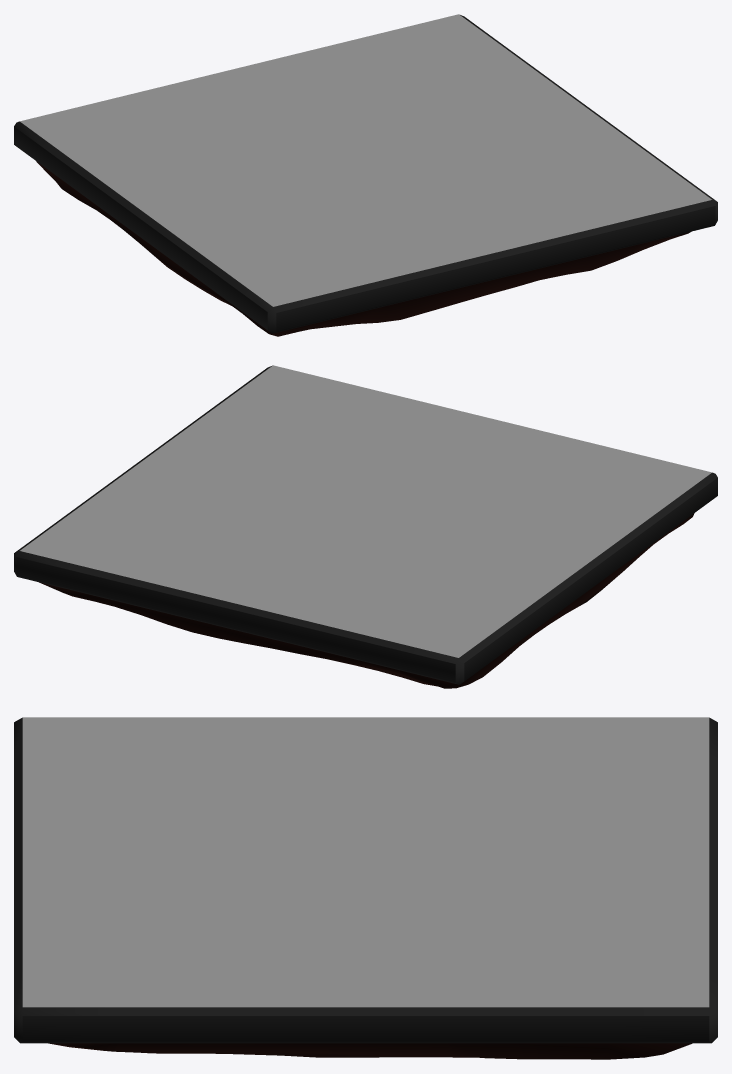
File: MET_Platforme_6x6x0_75_Pierre_01.fbx
3 renders of one model, top to bottom at view 1: azimuth 30°, elevation 25°; view 2: azimuth 150°, elevation 25°; view 3: azimuth 270°, elevation 25°, orthographic. The views are drawn at different scales.
Parts seen in each view (by area): view 1: MET_Platforme_Moyen_Pierre_01_LOD0; view 2: MET_Platforme_Moyen_Pierre_01_LOD0; view 3: MET_Platforme_Moyen_Pierre_01_LOD0.
Part boxes in pixels (x1=…): MET_Platforme_Moyen_Pierre_01_LOD0: x1=14, y1=14, x2=717, y2=336; MET_Platforme_Moyen_Pierre_01_LOD0: x1=14, y1=365, x2=717, y2=688; MET_Platforme_Moyen_Pierre_01_LOD0: x1=14, y1=717, x2=717, y2=1059.
Size of the model in its own units: 600 by 75 by 600.
